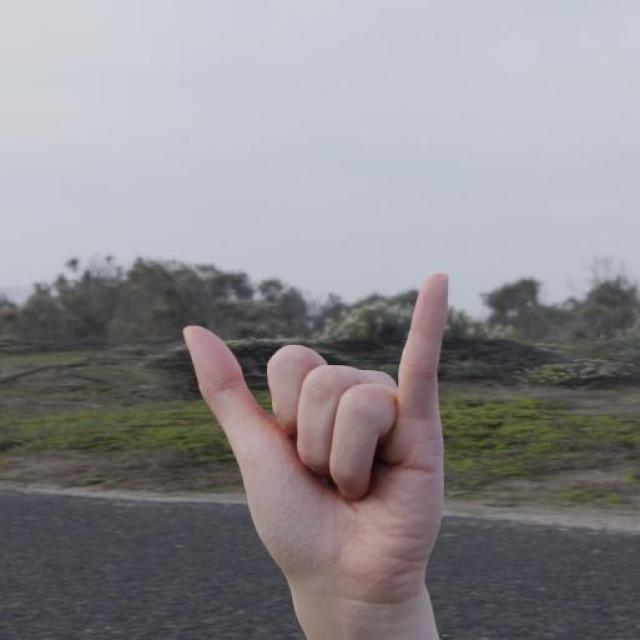Y: (178, 268, 455, 612)
